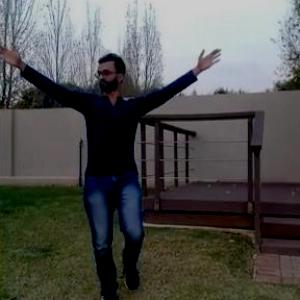takeoff: (1, 46, 230, 299)
